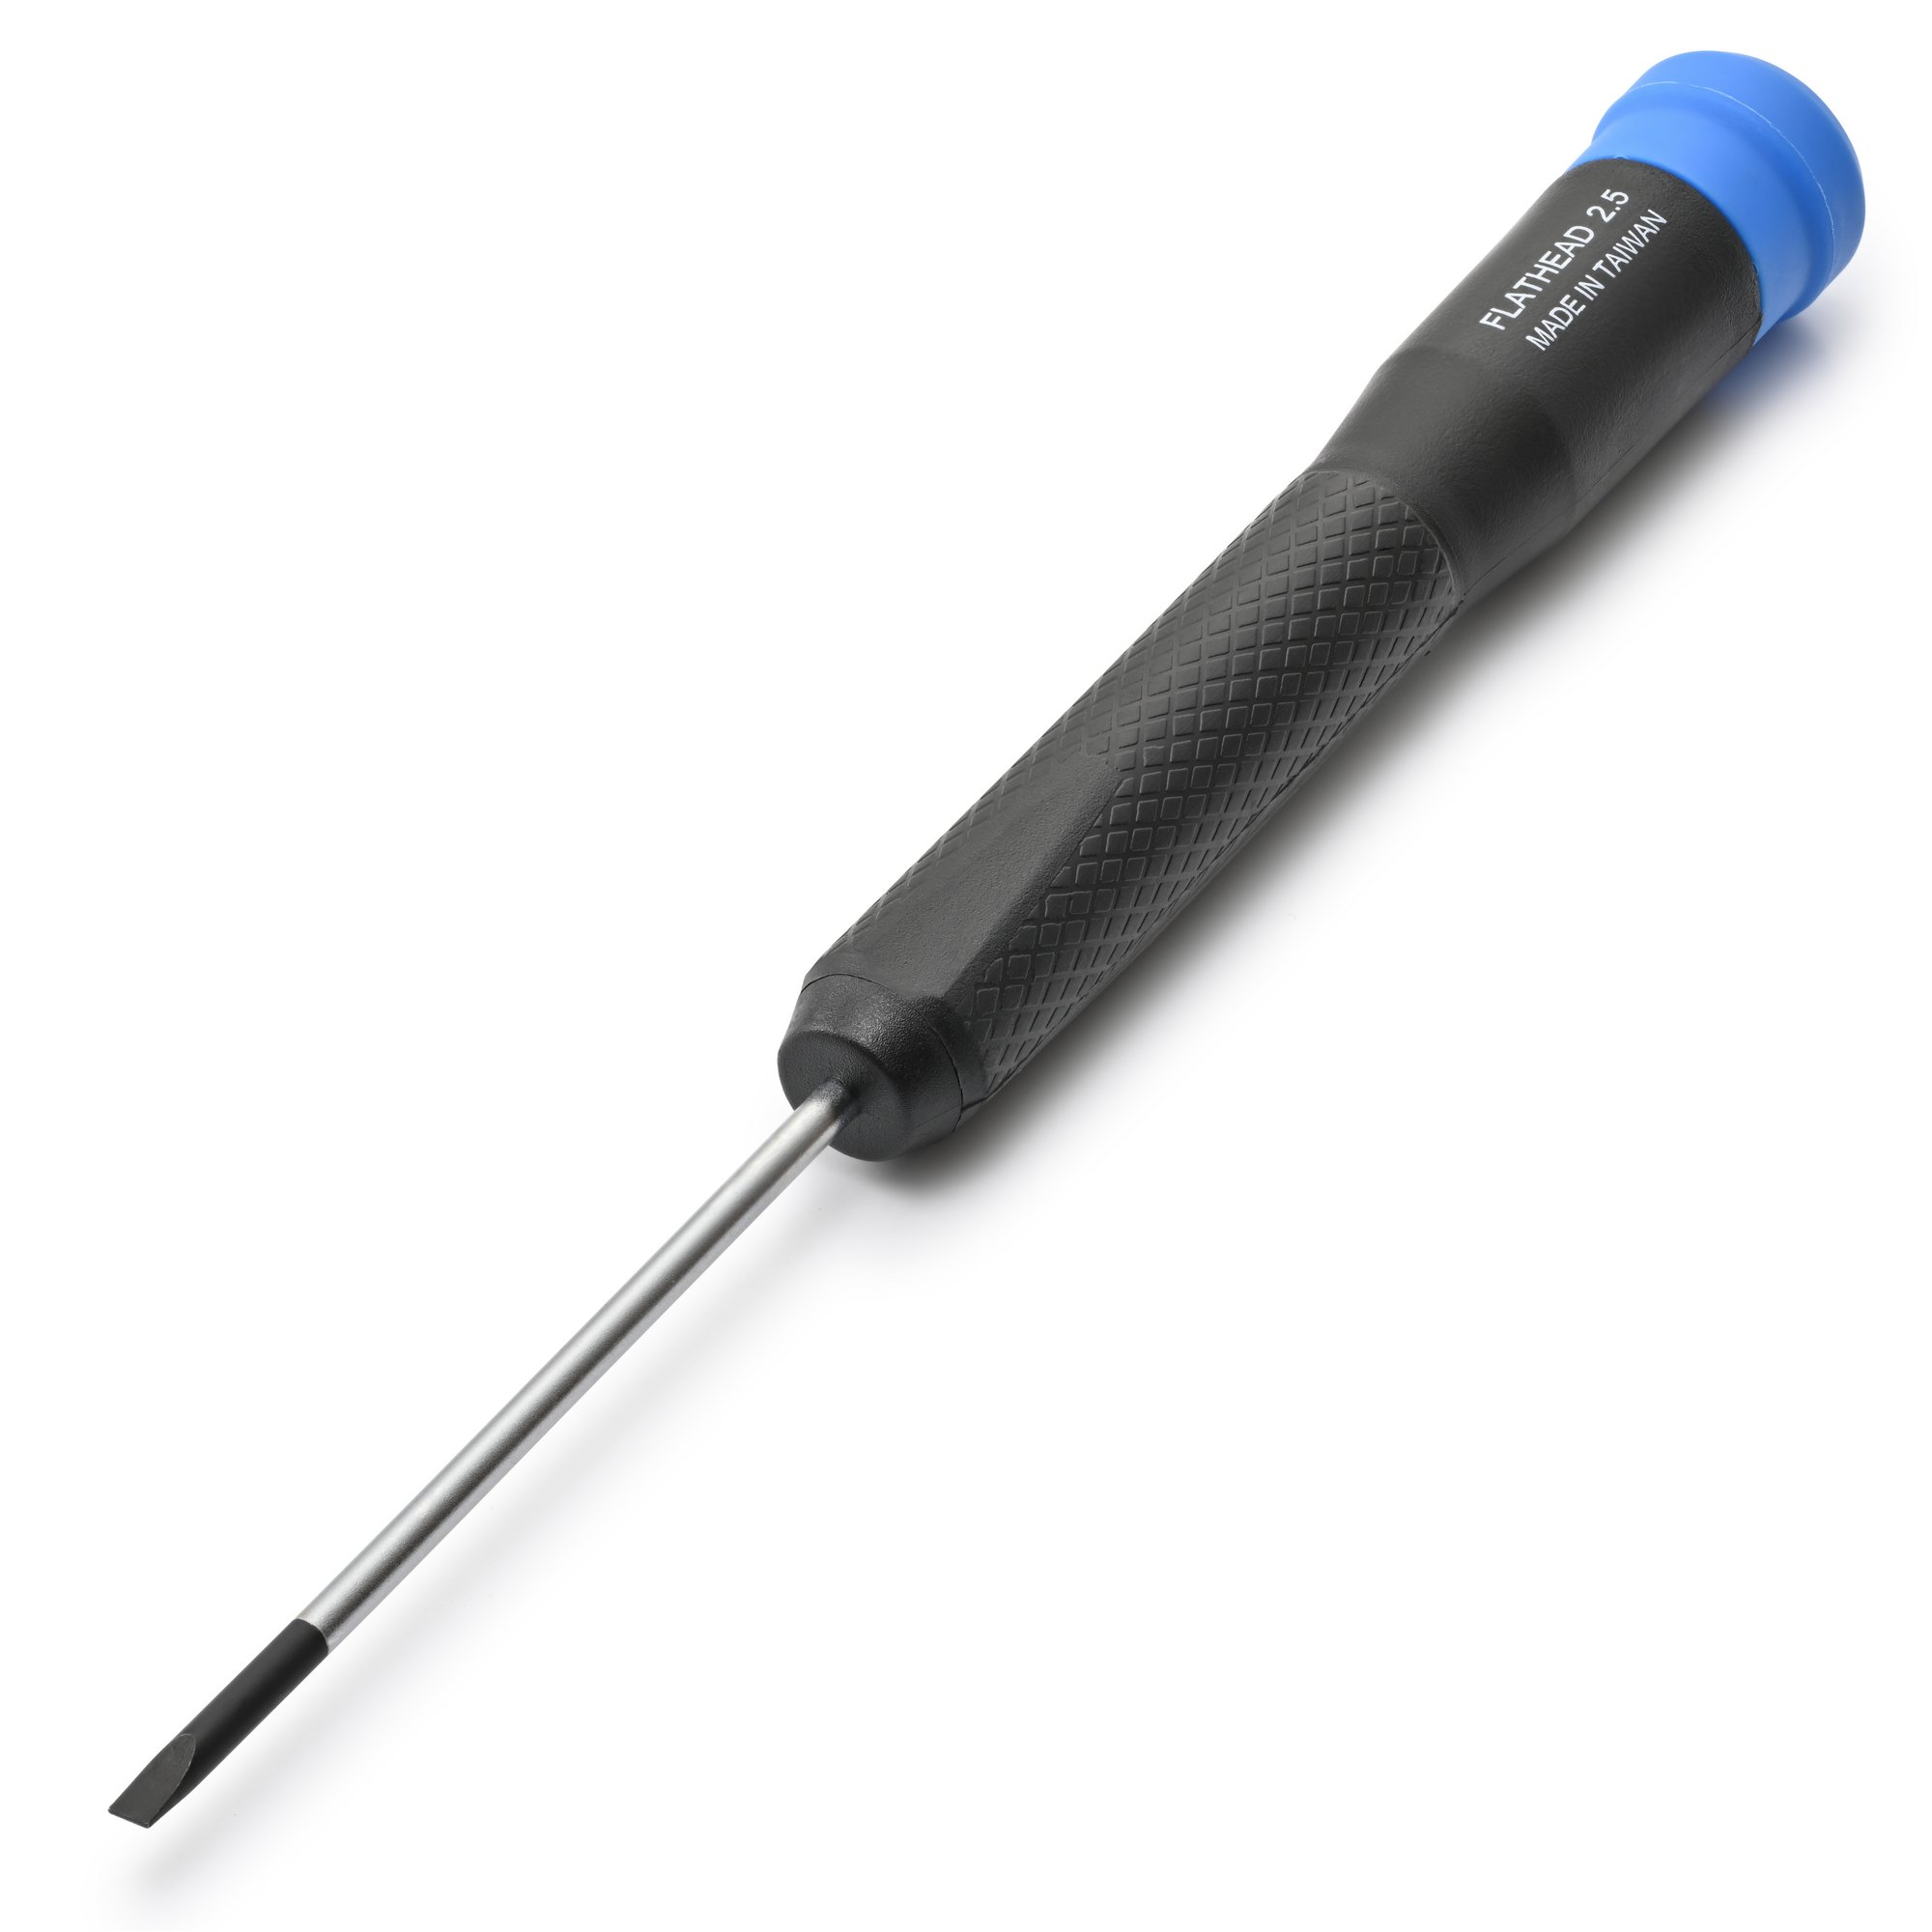screwdriver: (106, 41, 1877, 1833)
